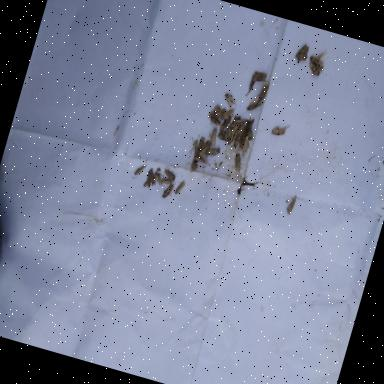pbw: (306, 54, 328, 75), (244, 93, 264, 115), (160, 178, 178, 201), (230, 152, 246, 176), (221, 92, 241, 110), (258, 78, 272, 102), (218, 114, 232, 136), (219, 106, 236, 124), (151, 172, 169, 189), (245, 74, 257, 98), (272, 122, 290, 138), (296, 46, 310, 66), (231, 128, 244, 148), (206, 144, 222, 160), (306, 62, 323, 77), (172, 180, 187, 197), (285, 195, 297, 216), (192, 154, 212, 166), (207, 116, 224, 130), (294, 42, 307, 60), (228, 114, 241, 132), (208, 128, 220, 147), (240, 135, 252, 154), (207, 105, 221, 121), (161, 168, 177, 182), (213, 106, 226, 121), (199, 142, 211, 158), (228, 122, 240, 138), (240, 127, 250, 146), (133, 164, 146, 178), (195, 136, 206, 152), (222, 126, 232, 143), (226, 128, 235, 146), (254, 70, 268, 80), (252, 75, 266, 84), (200, 140, 208, 154), (161, 177, 173, 186), (234, 117, 246, 126), (216, 132, 226, 141)
